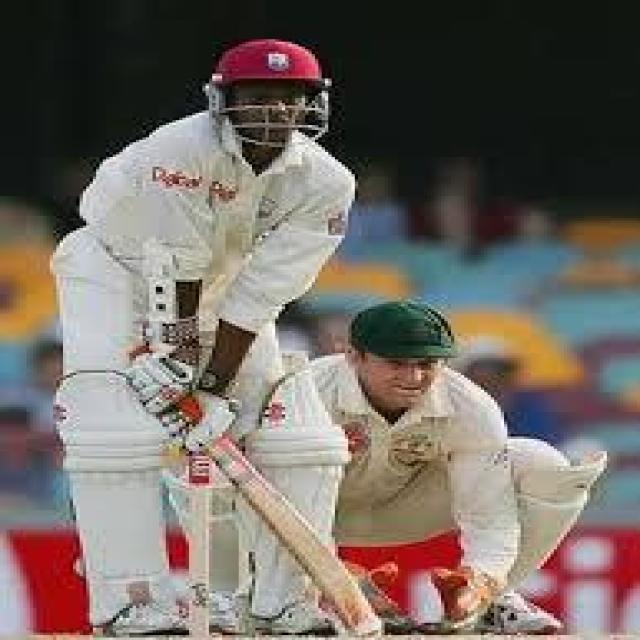bat: (203, 430, 385, 634)
toe: (328, 588, 381, 636)
